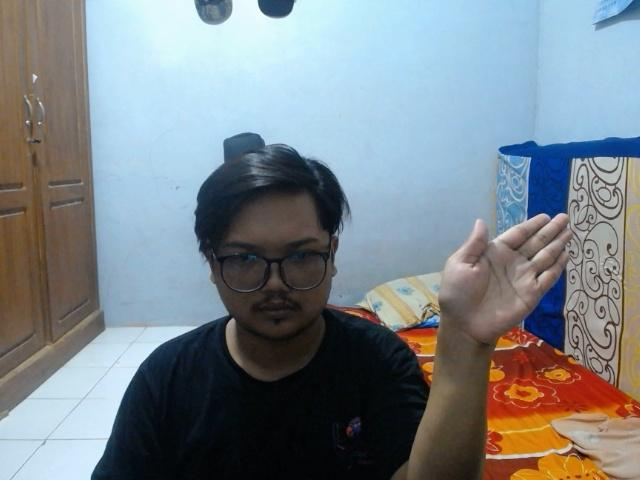Release: (431, 204, 577, 344)
